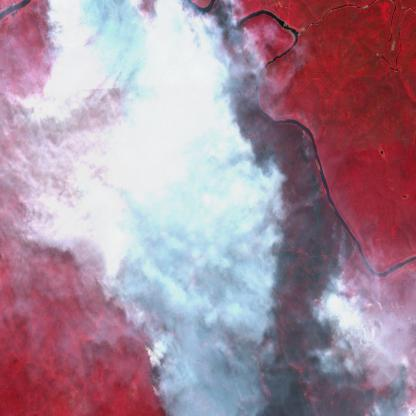fire: (52, 0, 268, 416)
